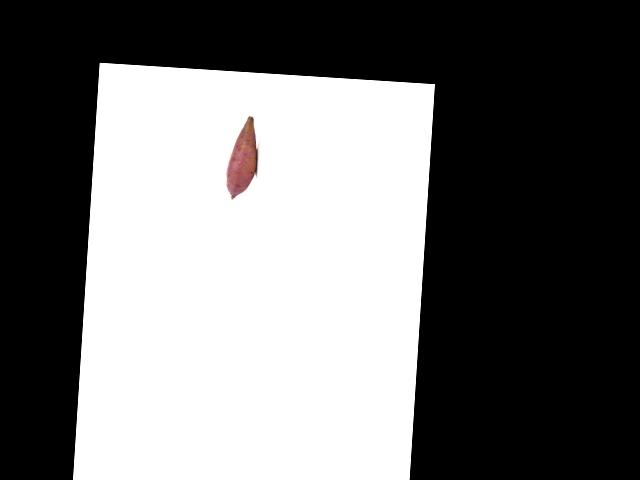sweet_potato: (225, 115, 258, 201)
